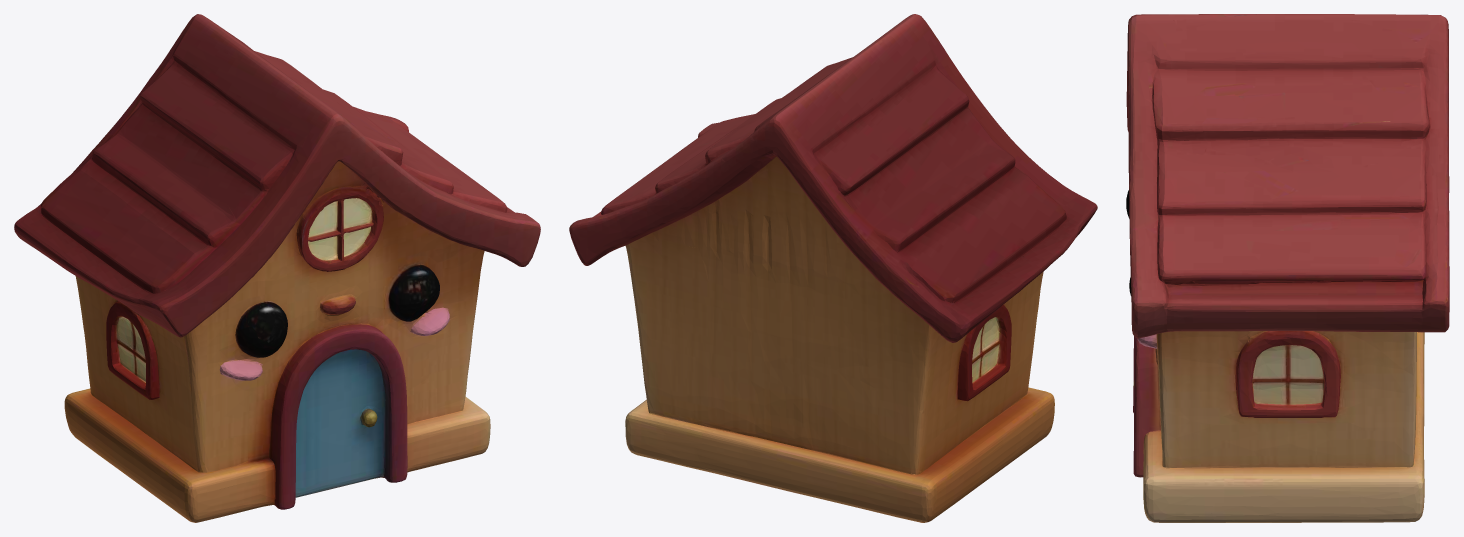
File: house.glb
3 views of the same model, side by side, from view 1: azimuth 30°, elevation 25°; view 2: azimuth 150°, elevation 25°; view 3: azimuth 270°, elevation 25° (orthographic). The views are drawn at different scales.
Visible parts, largest first — view 1: geometry_0; view 2: geometry_0; view 3: geometry_0.
Boxes of the visible parts, bbox=[...] form: geometry_0: bbox=[14, 14, 540, 522]; geometry_0: bbox=[569, 14, 1097, 522]; geometry_0: bbox=[1126, 14, 1449, 522].
Bounding box in the file's own units: 0.999 × 0.9287 × 0.6403.
1 material, 1 textured.
